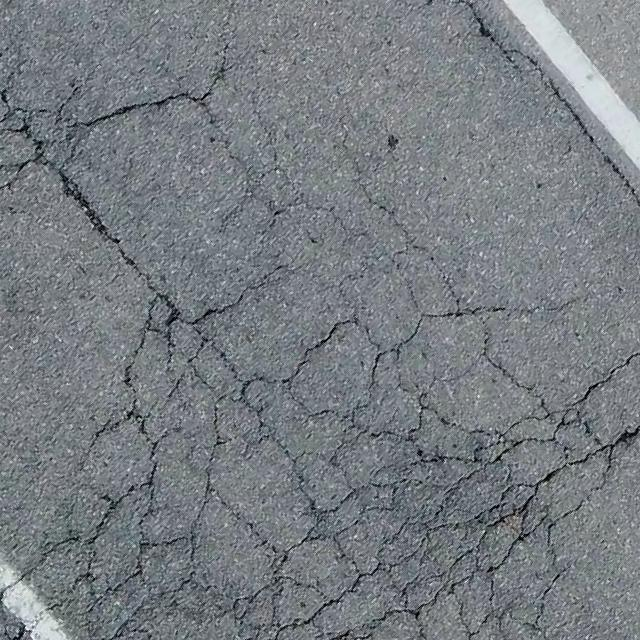GRIETA: (462, 0, 639, 205)
PIEL DE COCODRILO: (0, 42, 639, 639)
